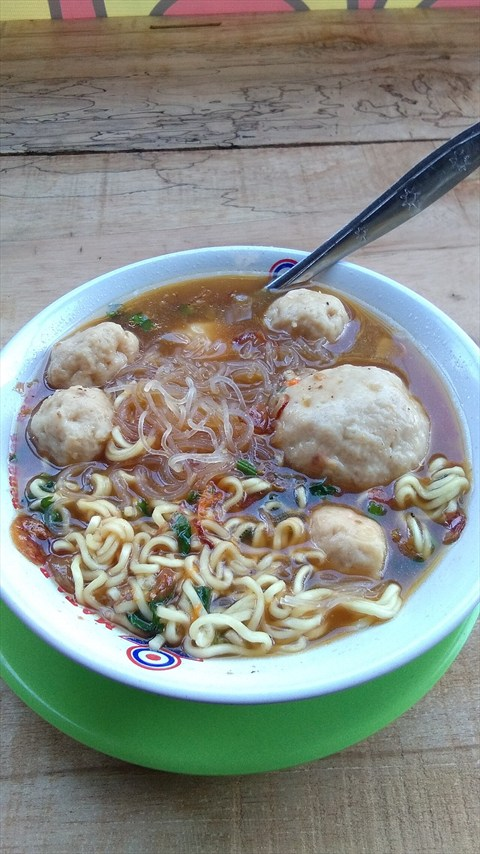Bakso: (16, 226, 455, 727)
